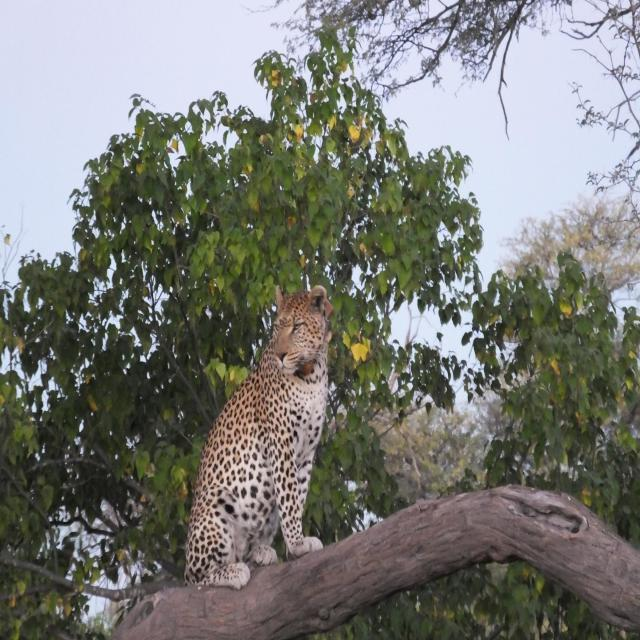Leopard: (178, 285, 346, 599)
